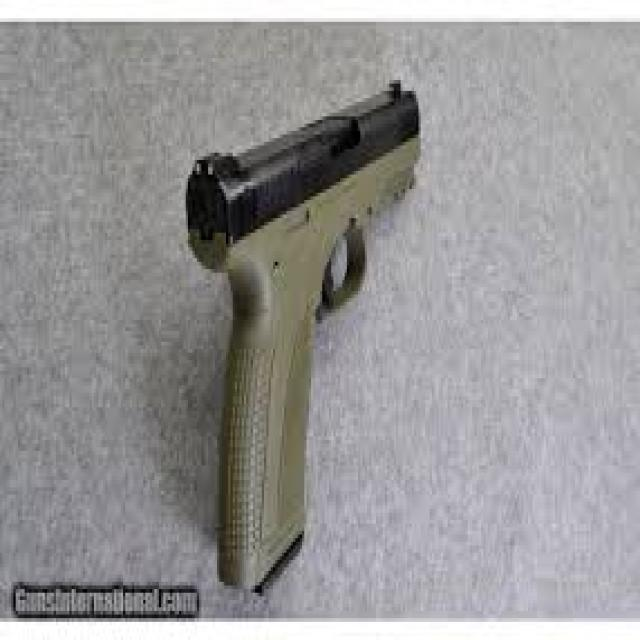Gun: (147, 73, 447, 596)
